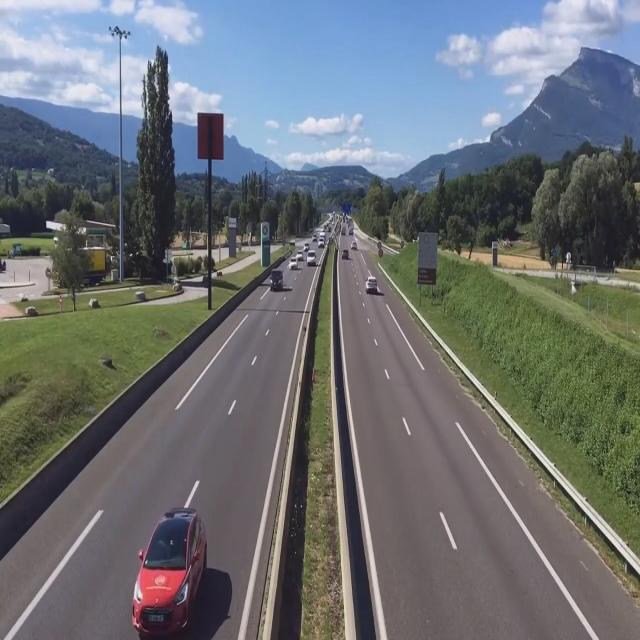car: (133, 510, 213, 639), (270, 268, 284, 292), (365, 277, 377, 295)
